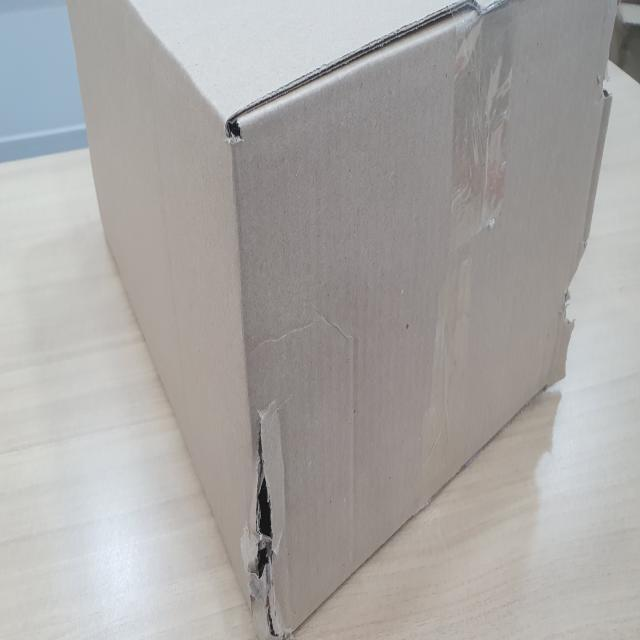hole: (247, 419, 277, 640)
